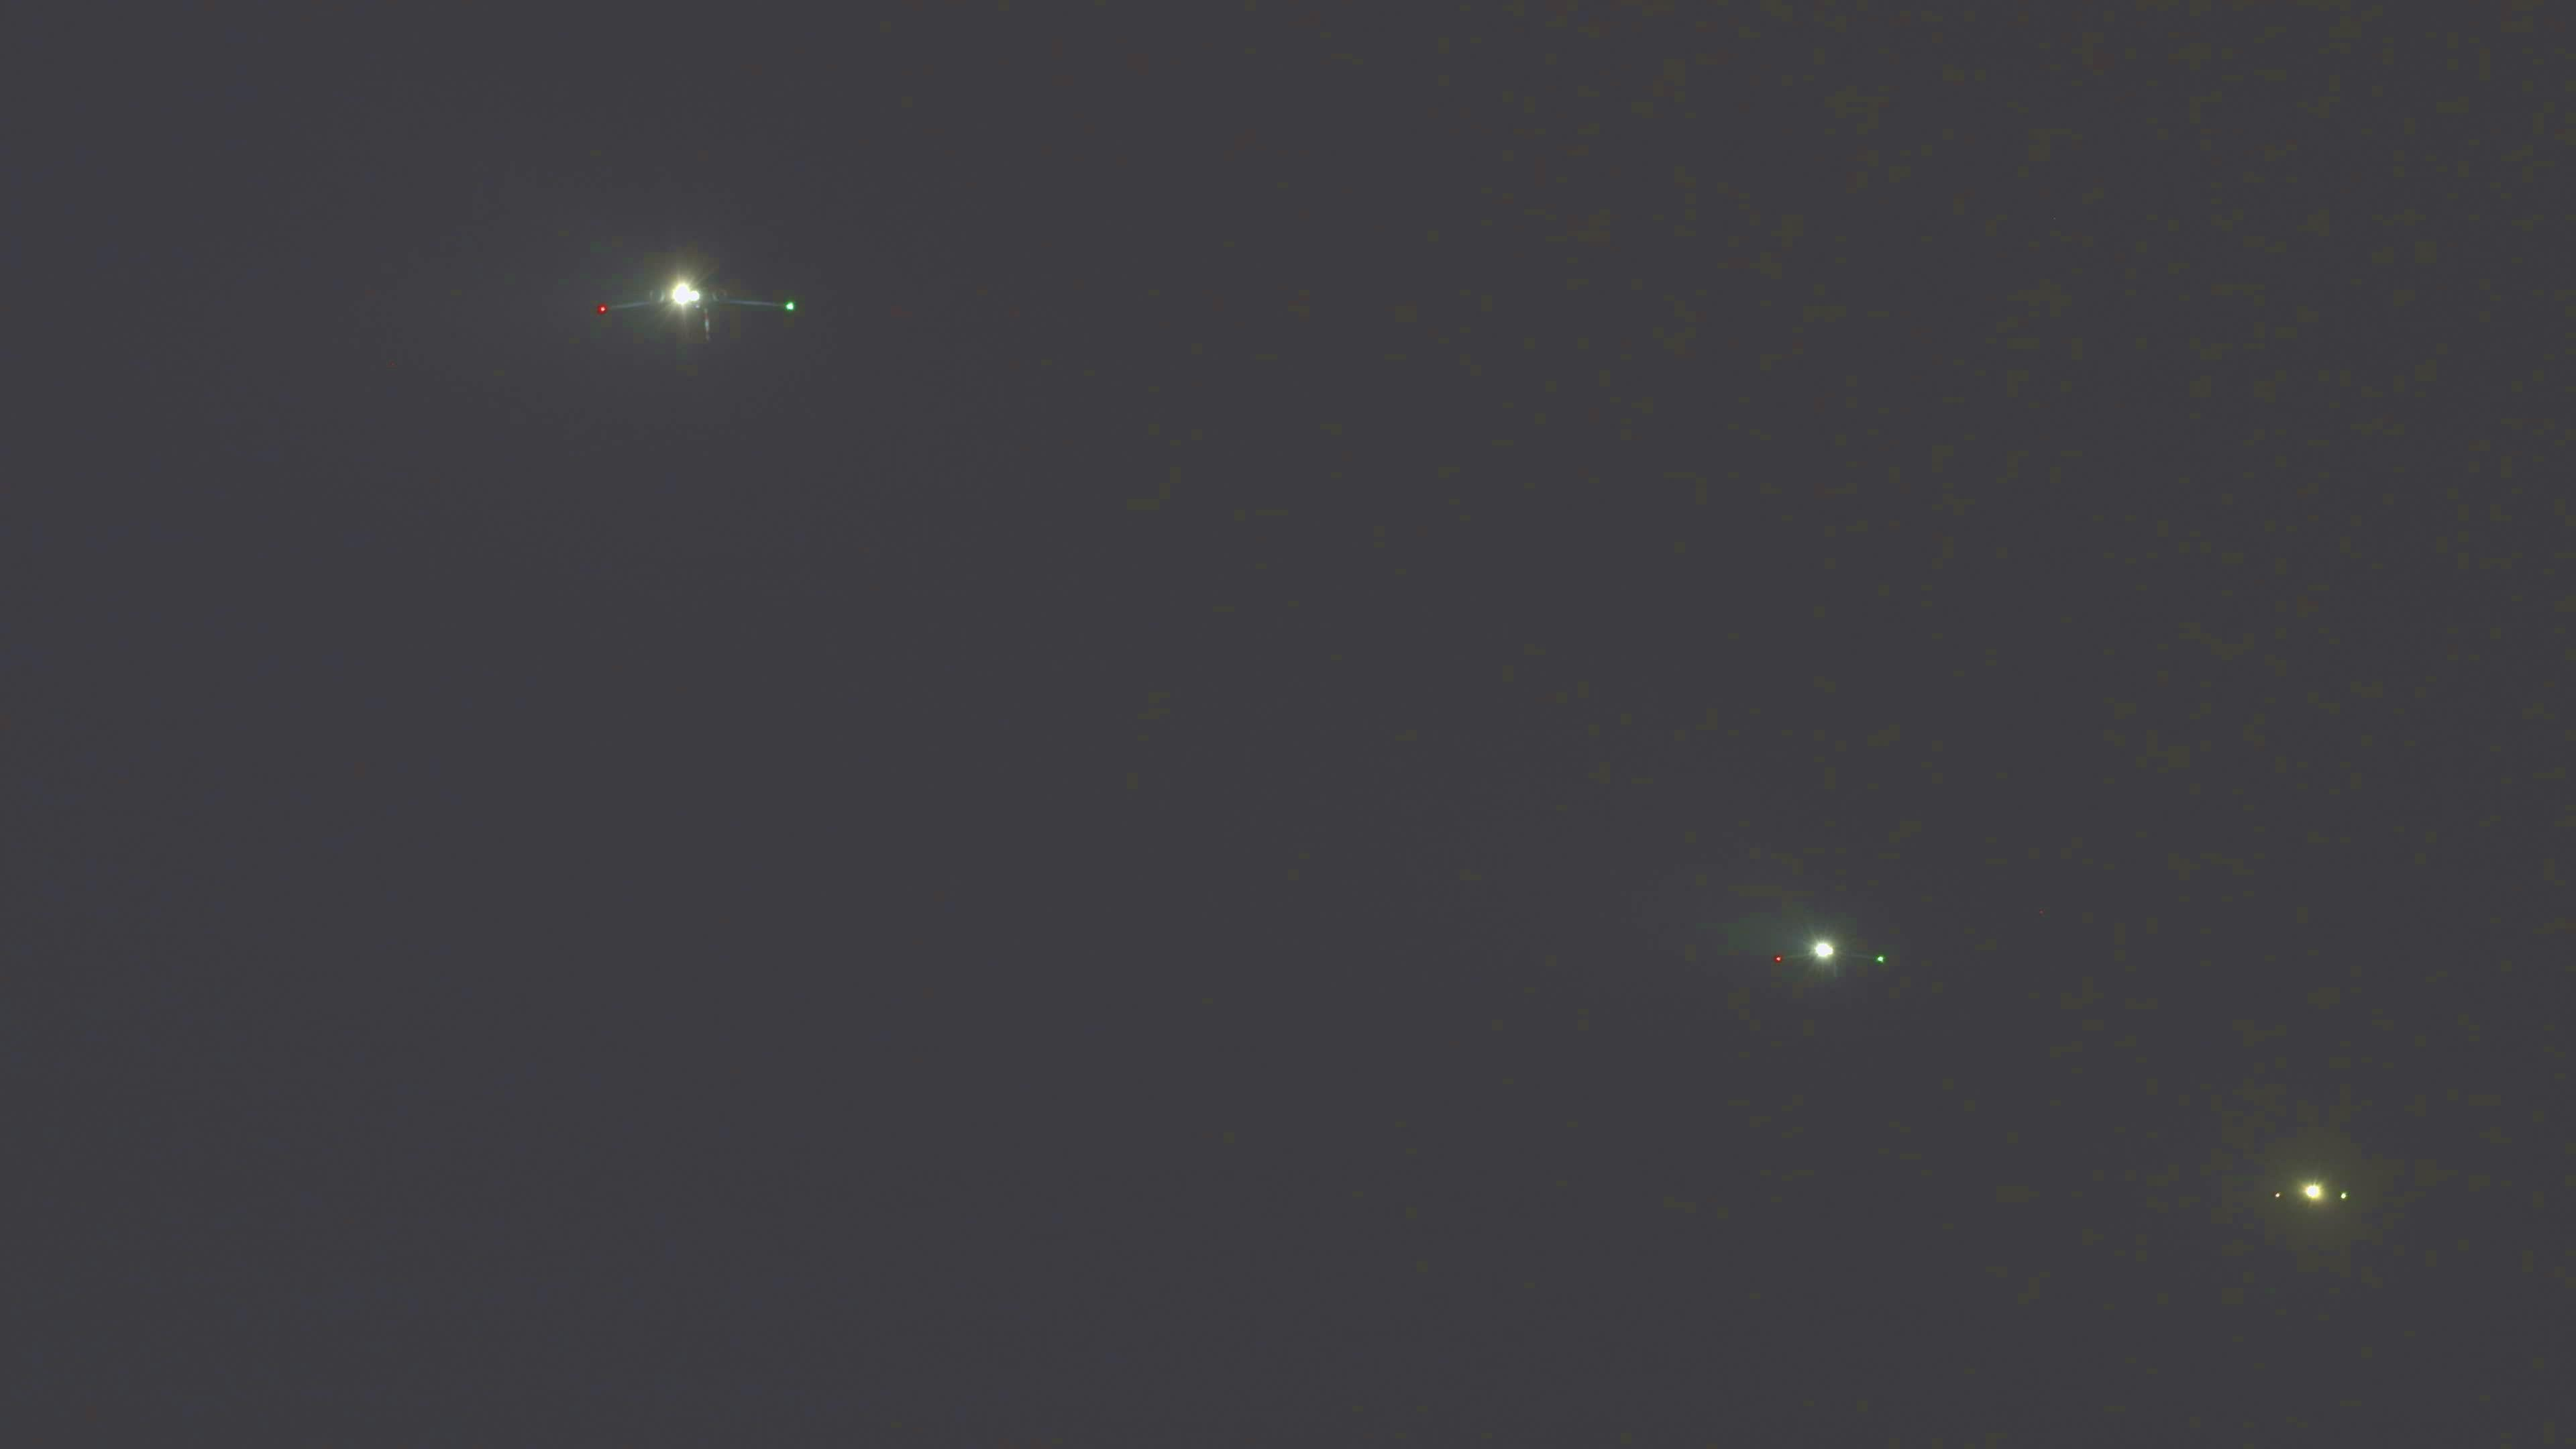Plane: (515, 237, 869, 361), (1720, 918, 1946, 993), (2235, 1162, 2397, 1224)
